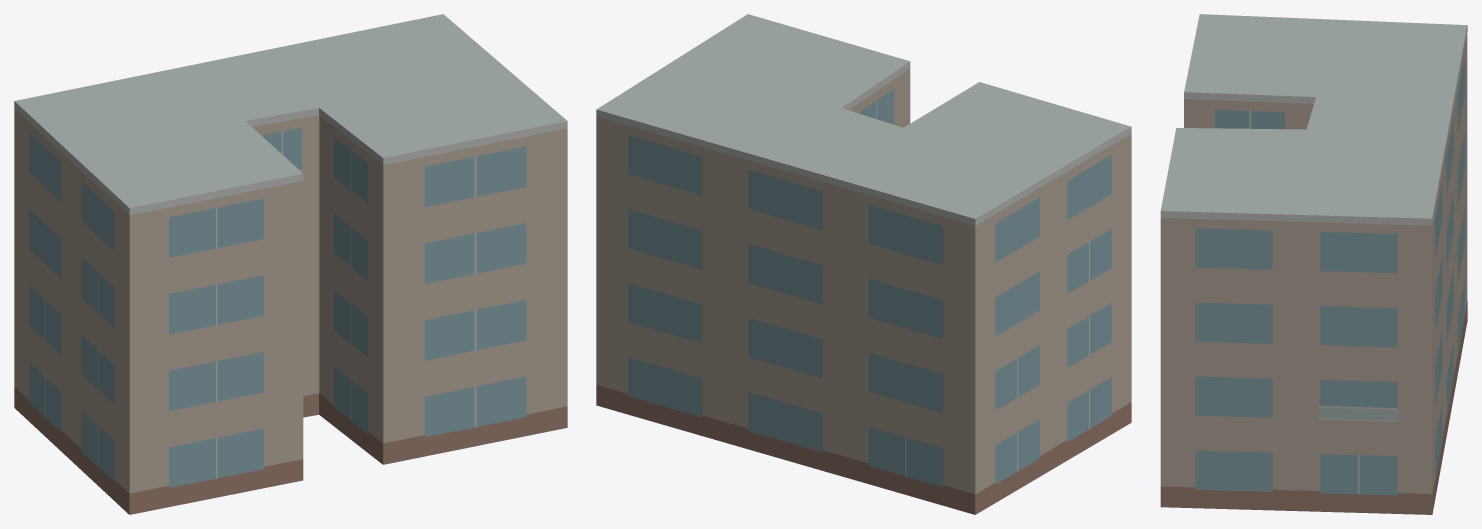
File: survey-upis-32759783.glb
The picture shows the model from 3 angles, left to right: view 1: azimuth 30°, elevation 25°; view 2: azimuth 150°, elevation 25°; view 3: azimuth 270°, elevation 25°; orthographic projection. The views are drawn at different scales.
Visible parts, largest first — view 1: survey-upis-32759783.tmp; view 2: survey-upis-32759783.tmp; view 3: survey-upis-32759783.tmp.
Part boxes in pixels (bbox=[...]): survey-upis-32759783.tmp: bbox=[14, 14, 567, 514]; survey-upis-32759783.tmp: bbox=[596, 14, 1131, 514]; survey-upis-32759783.tmp: bbox=[1160, 14, 1467, 514].
Size of the model in its own units: 15.42 by 10.4 by 9.77.
